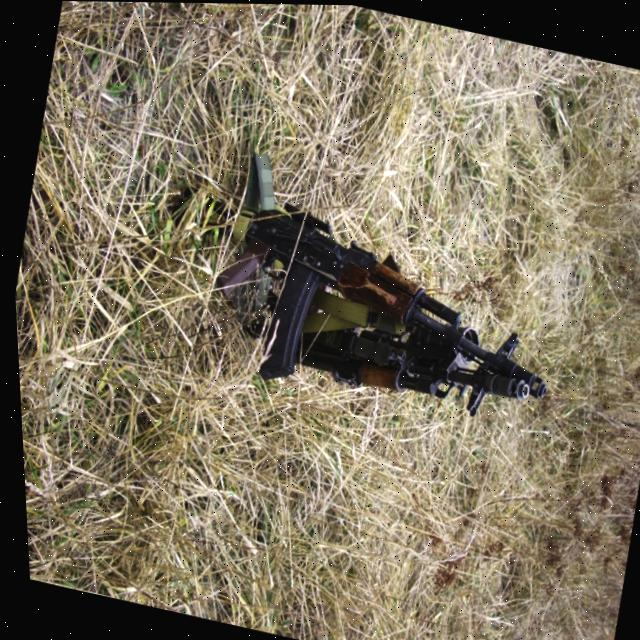firearm: (135, 180, 571, 442), (227, 276, 537, 428)
